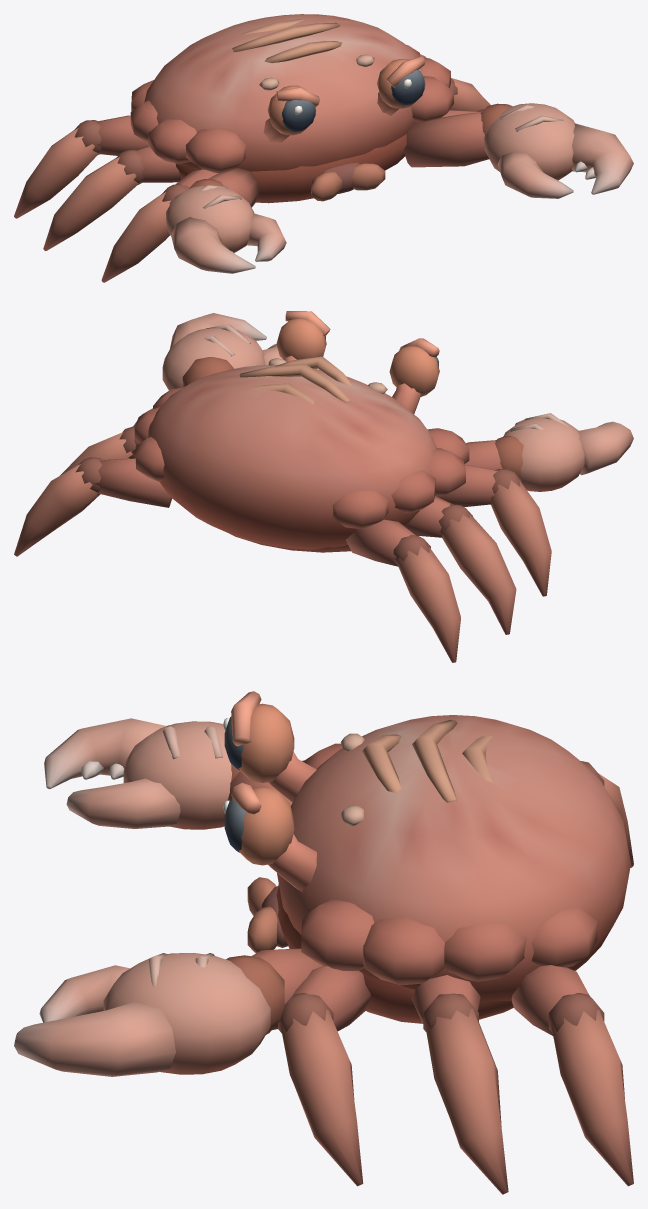
File: enemigo-cangrejo.glb
3 renders of one model, top to bottom at view 1: azimuth 30°, elevation 25°; view 2: azimuth 150°, elevation 25°; view 3: azimuth 270°, elevation 25°, orthographic. The views are drawn at different scales.
Parts seen in each view (by area): view 1: Body, Claw_R, Legs_L, Claw_L, Eye_L, Eye_R, Legs_R; view 2: Body, Legs_L, Claw_L, Legs_R, Claw_R, Eye_L, Eye_R; view 3: Body, Legs_R, Claw_R, Claw_L, Eye_R, Eye_L, Legs_L.
Part boxes in pixels (x1,y1,x2,y2): Body: (130, 14, 453, 203); Claw_R: (404, 103, 633, 198); Legs_L: (14, 115, 218, 282); Claw_L: (166, 168, 286, 273); Eye_L: (263, 85, 319, 142); Eye_R: (377, 56, 425, 115); Legs_R: (420, 54, 490, 117); Body: (134, 356, 469, 552); Legs_L: (346, 464, 551, 662); Claw_L: (464, 413, 633, 491); Legs_R: (14, 408, 171, 556); Claw_R: (162, 313, 282, 390); Eye_L: (389, 338, 439, 413); Eye_R: (276, 311, 330, 361); Body: (247, 715, 630, 1023); Legs_R: (278, 965, 633, 1194); Claw_R: (14, 948, 322, 1076); Claw_L: (44, 718, 292, 829); Eye_R: (223, 783, 316, 892); Eye_L: (223, 691, 316, 802); Legs_L: (302, 760, 633, 867).
Bounding box in the file's own units: 1 × 0.3972 × 0.7707.
